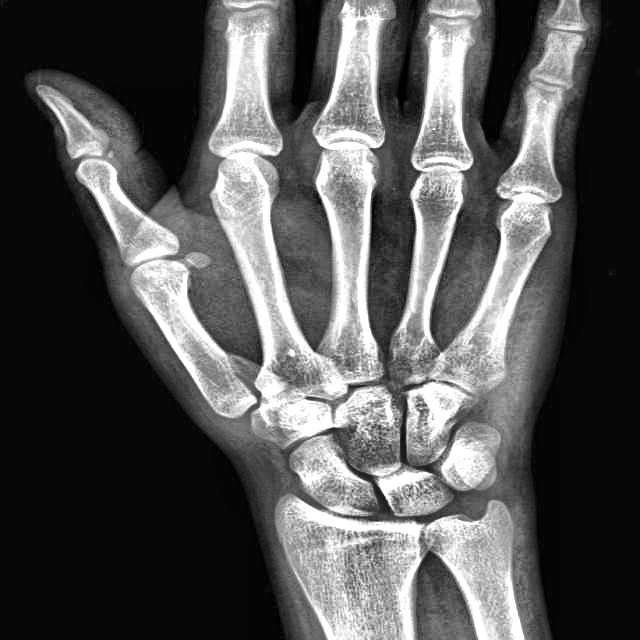Oblique: (195, 332, 291, 416)
